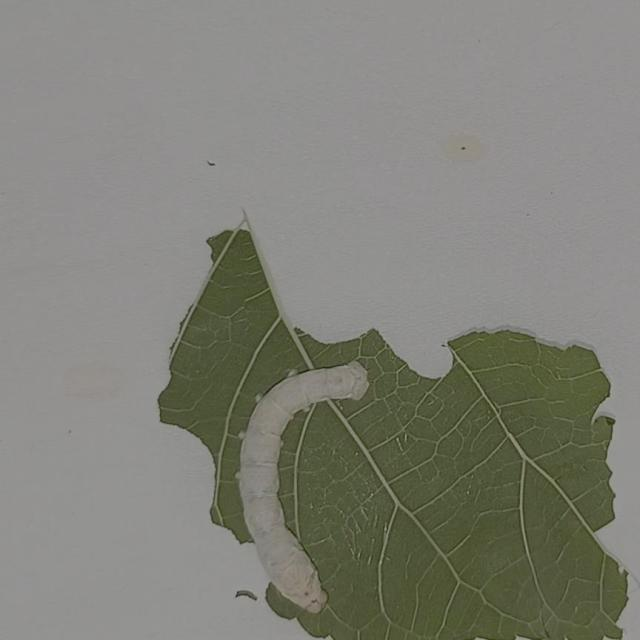Healthy: (183, 332, 400, 629)
